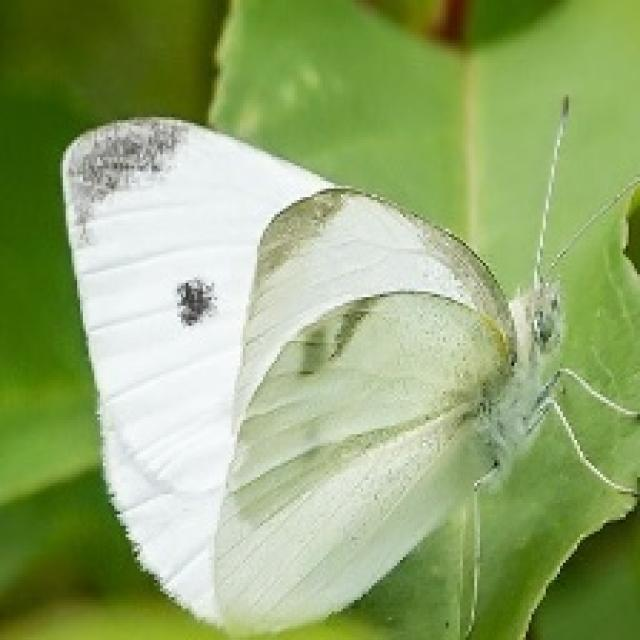butterfly: (61, 115, 640, 638)
